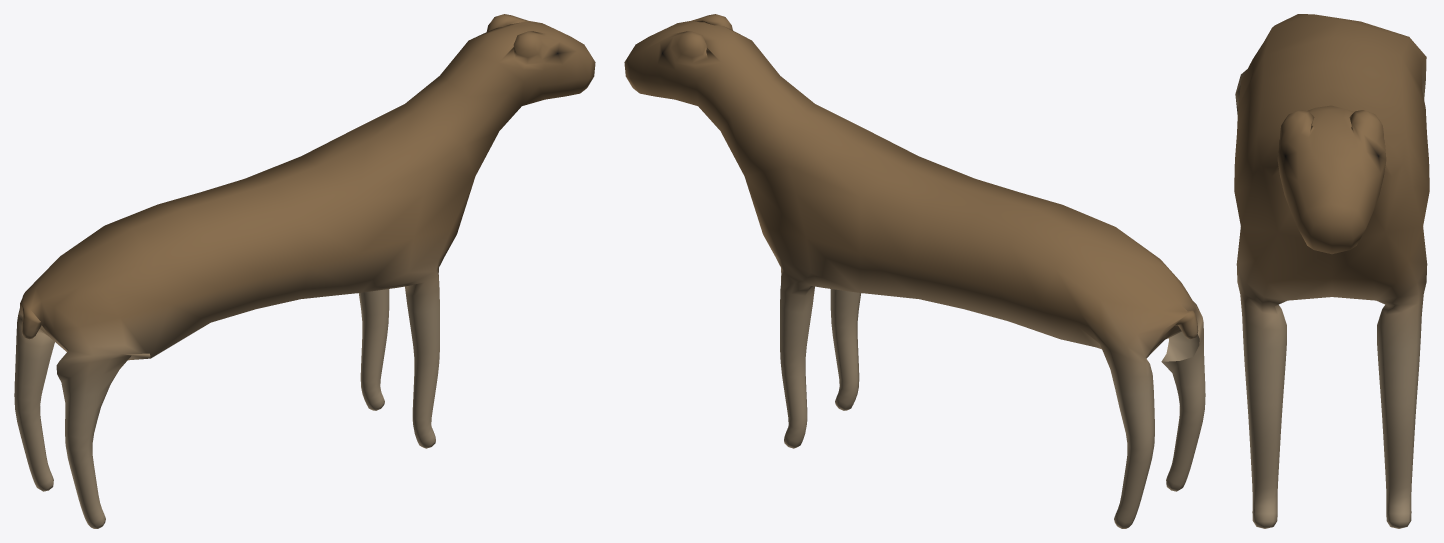
File: deer.glb
3 renders of one model, left to right at view 1: azimuth 30°, elevation 25°; view 2: azimuth 150°, elevation 25°; view 3: azimuth 270°, elevation 25°, orthographic. The views are drawn at different scales.
Visible parts, largest first — view 1: deer; view 2: deer; view 3: deer.
Part boxes in pixels (bbox=[...]): deer: bbox=[14, 14, 595, 528]; deer: bbox=[624, 14, 1205, 528]; deer: bbox=[1234, 14, 1429, 528].
Size of the model in its own units: 1.58 by 0.9994 by 0.3625.
